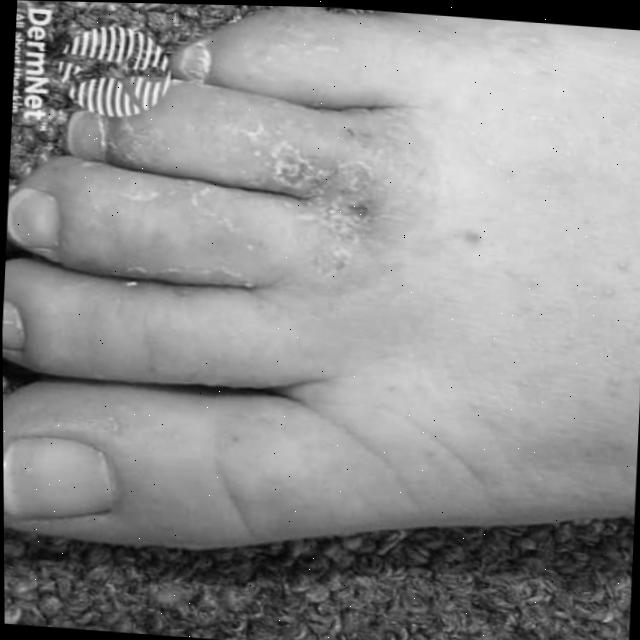Eczema: (217, 115, 401, 280)
